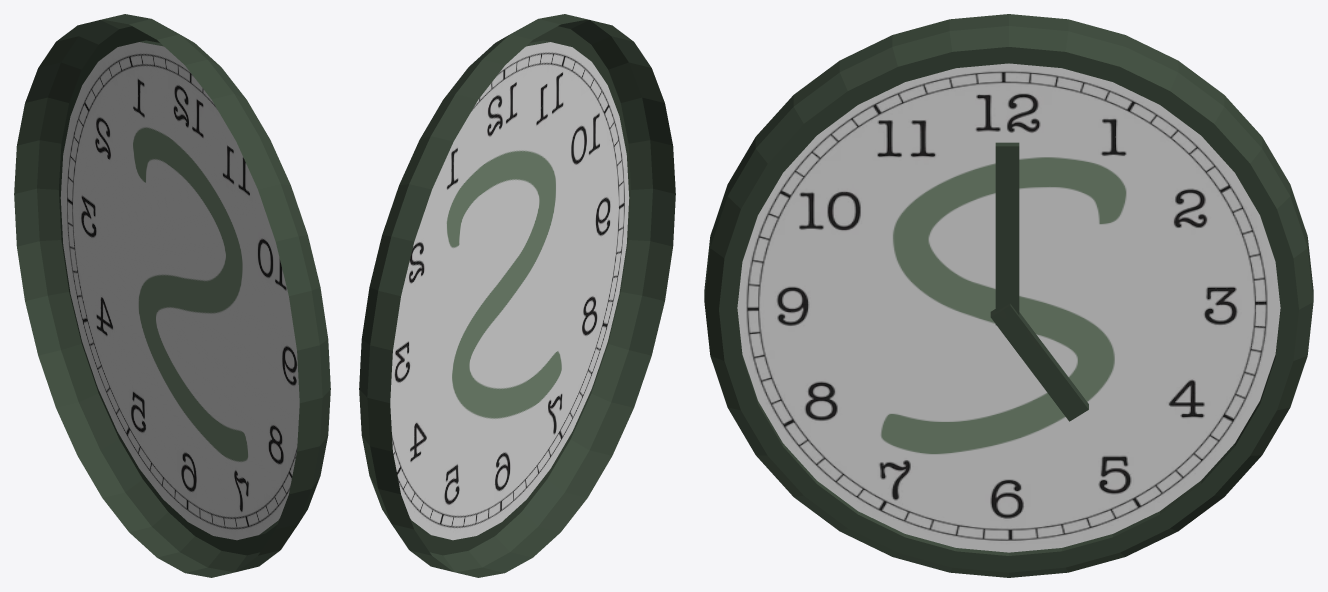
Rendered from F_Clock_01.fbx.
3 views of the same model, side by side, from view 1: azimuth 30°, elevation 25°; view 2: azimuth 150°, elevation 25°; view 3: azimuth 270°, elevation 25° (orthographic). The views are drawn at different scales.
Parts seen in each view (by area): view 1: Cube.002; view 2: Cube.002; view 3: Cube.002.
Boxes of the visible parts, bbox=[...] form: Cube.002: bbox=[14, 14, 330, 577]; Cube.002: bbox=[359, 14, 675, 577]; Cube.002: bbox=[704, 14, 1313, 577].
Size of the model in its own units: 9.07 by 96.48 by 96.48.
Materials: 1 (1 with a texture image).
